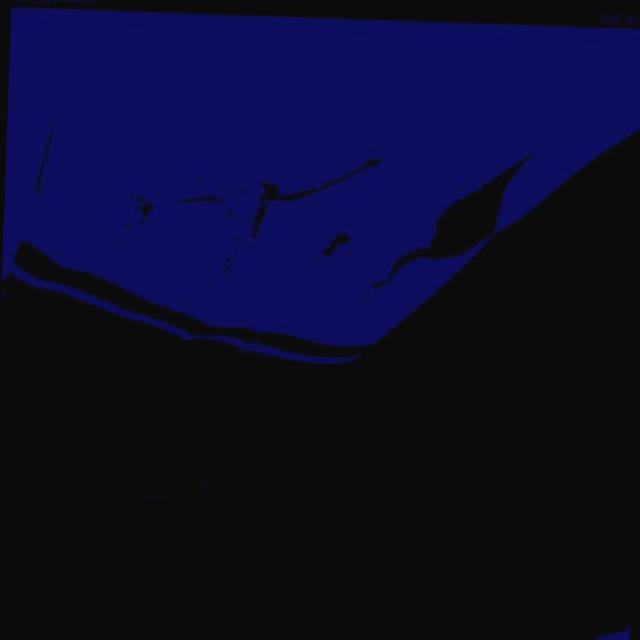crack: (294, 156, 368, 208), (179, 179, 234, 212), (243, 172, 269, 239), (208, 250, 232, 278)
